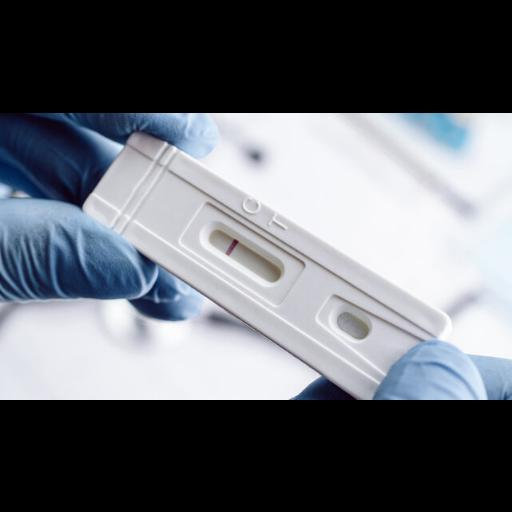Neg: (78, 127, 436, 400)
